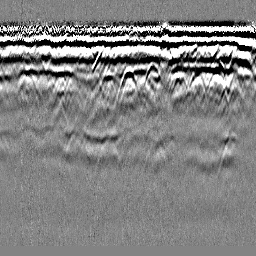cavity: (115, 67, 143, 110)
